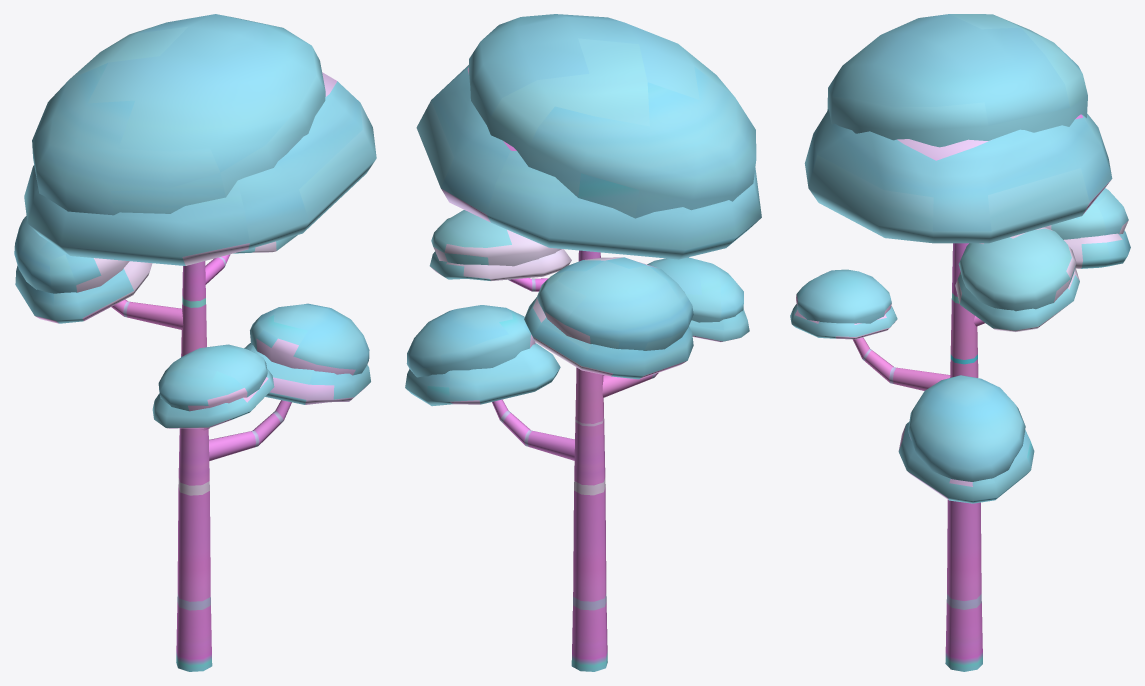
The model's file is grande_seta11.fbx.
The picture shows the model from 3 angles, left to right: view 1: azimuth 30°, elevation 25°; view 2: azimuth 150°, elevation 25°; view 3: azimuth 270°, elevation 25°; orthographic projection.
Parts seen in each view (by area): view 1: SetaXL_11; view 2: SetaXL_11; view 3: SetaXL_11.
Boxes of the visible parts, box(x1,y1,x2,y2) form: SetaXL_11: box(14, 14, 376, 671); SetaXL_11: box(405, 14, 761, 671); SetaXL_11: box(790, 14, 1130, 671).
Size of the model in its own units: 5820 by 10590 by 5141.
Materials: 1 (1 with a texture image).
